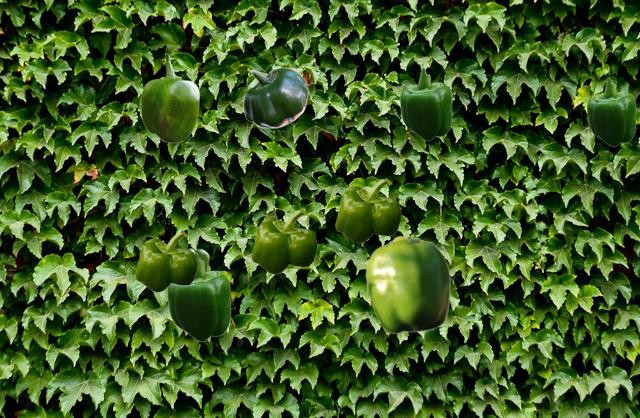bell_pepper: (365, 235, 450, 333), (166, 252, 230, 341), (140, 53, 199, 142), (251, 209, 316, 273), (335, 178, 400, 242), (242, 67, 307, 127), (399, 67, 451, 140), (135, 231, 196, 291), (586, 77, 635, 146), (185, 248, 208, 270)
